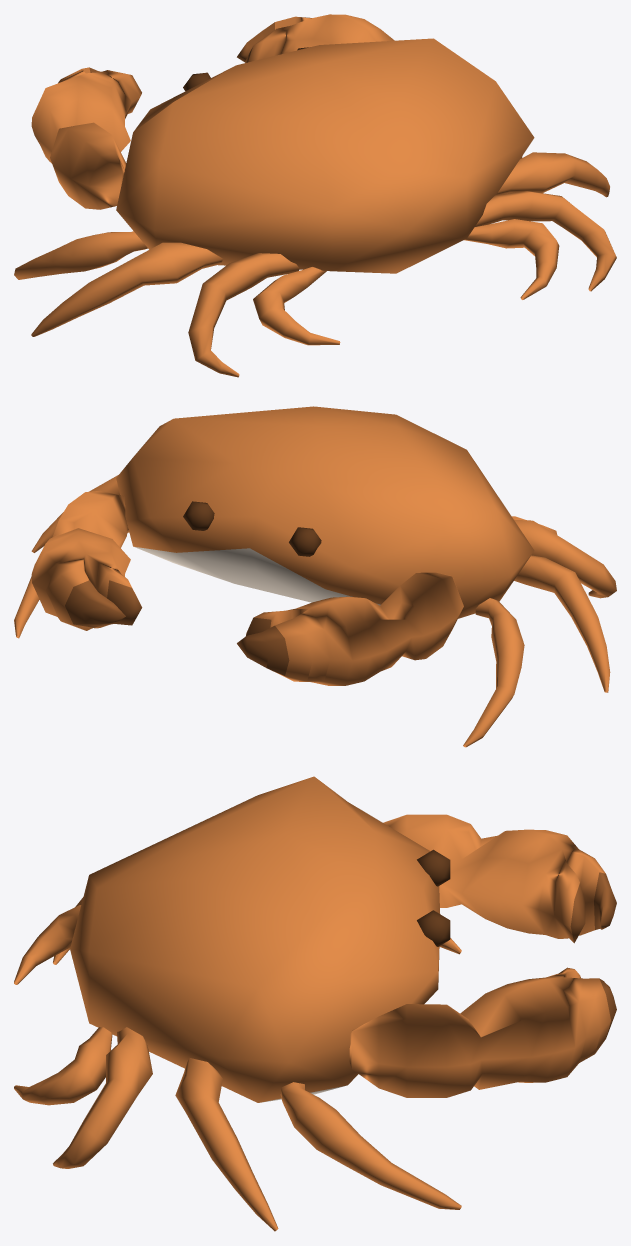
The model's file is NOVELO_CRAB.gltf.
The picture shows the model from 3 angles, top to bottom: view 1: azimuth 30°, elevation 25°; view 2: azimuth 150°, elevation 25°; view 3: azimuth 270°, elevation 25°; orthographic projection. The views are drawn at different scales.
Visible parts, largest first — view 1: node-0; view 2: node-0; view 3: node-0.
Boxes of the visible parts, x1,y1,x2,y2 form: node-0: (14,14,616,377); node-0: (14,406,616,747); node-0: (14,776,616,1231).
Bounding box in the file's own units: 780 × 273 × 602.
